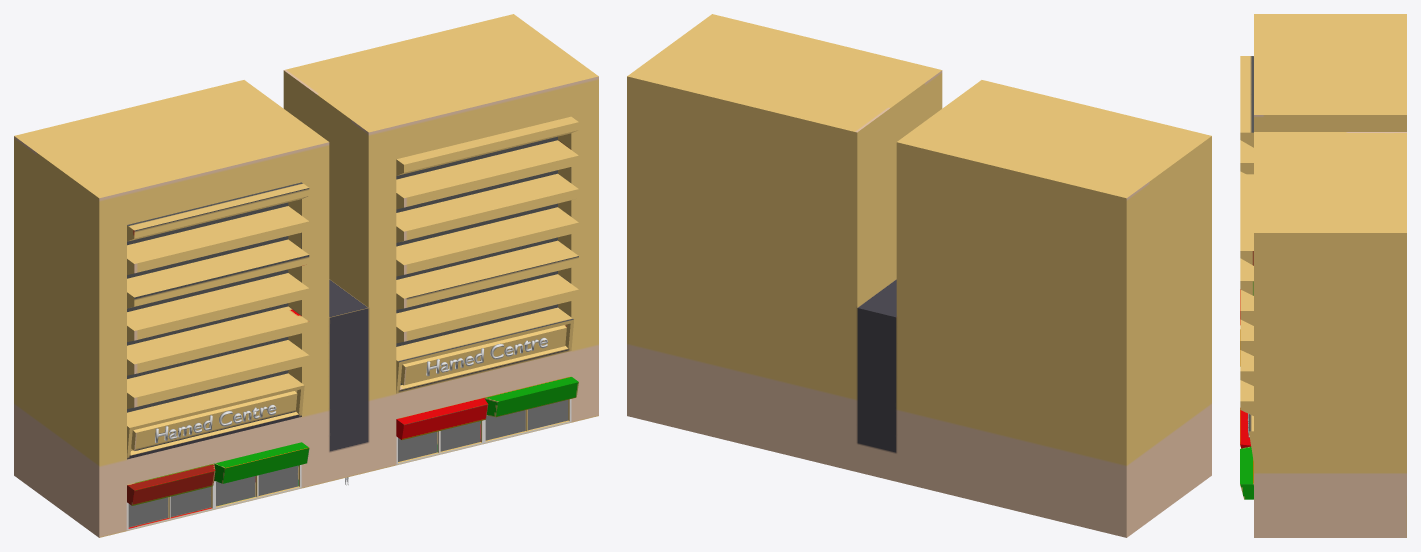
Rendered from Blockout.fbx.
The picture shows the model from 3 angles, left to right: view 1: azimuth 30°, elevation 25°; view 2: azimuth 150°, elevation 25°; view 3: azimuth 270°, elevation 25°; orthographic projection. The views are drawn at different scales.
Visible parts, largest first — view 1: Cube.074, Text.001, Text.002; view 2: Cube.074; view 3: Cube.074.
Part boxes in pixels (bbox=[...]): Cube.074: bbox=[14, 14, 598, 537]; Text.001: bbox=[426, 337, 547, 376]; Text.002: bbox=[155, 404, 276, 443]; Cube.074: bbox=[627, 14, 1211, 537]; Cube.074: bbox=[1240, 14, 1406, 537].
Size of the model in its own units: 13762 by 9187 by 4434.
